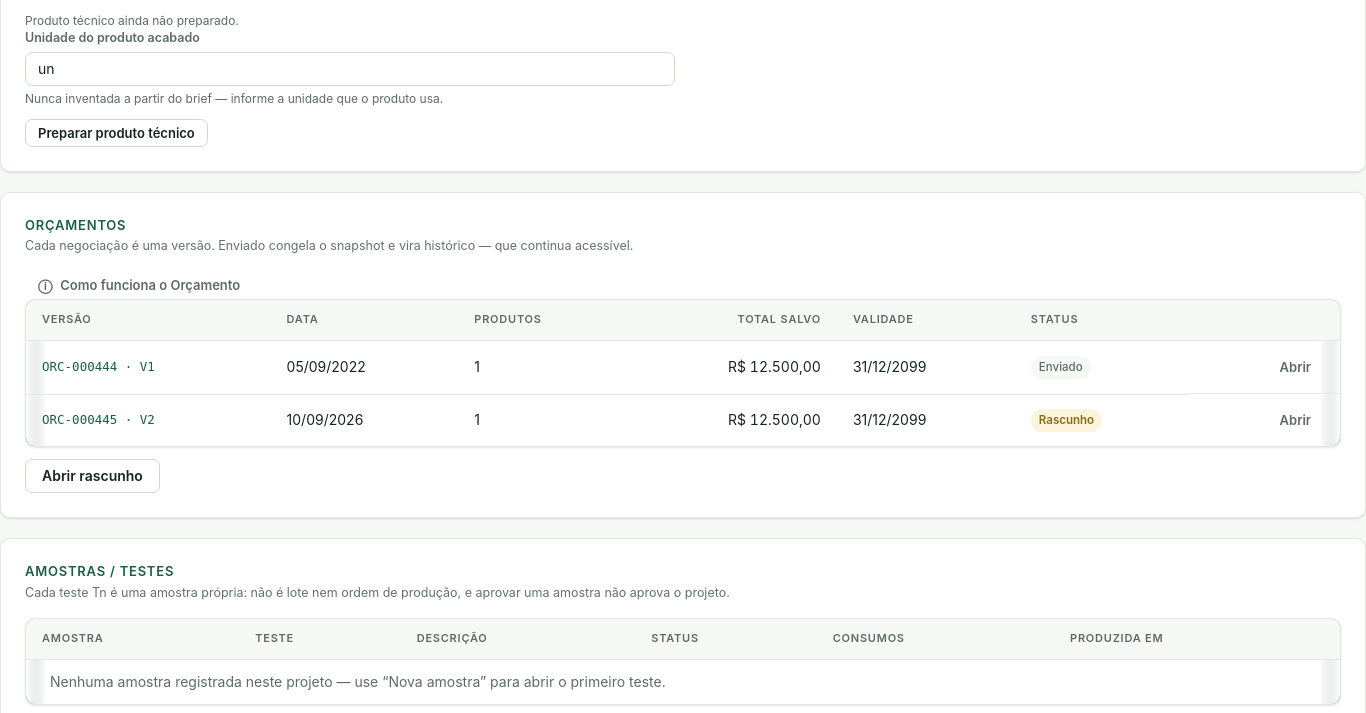
Test case: Projeto — a seção Orçamentos só lista › clicar na V1 histórica NAVEGA para a página dela, que se lê — sem formulário
The image size is (1366, 713).
(page scrolled)
Click the text "ORC-000444 · V1". click: (148, 368)
box: [26,341,271,394]
(page scrolled)
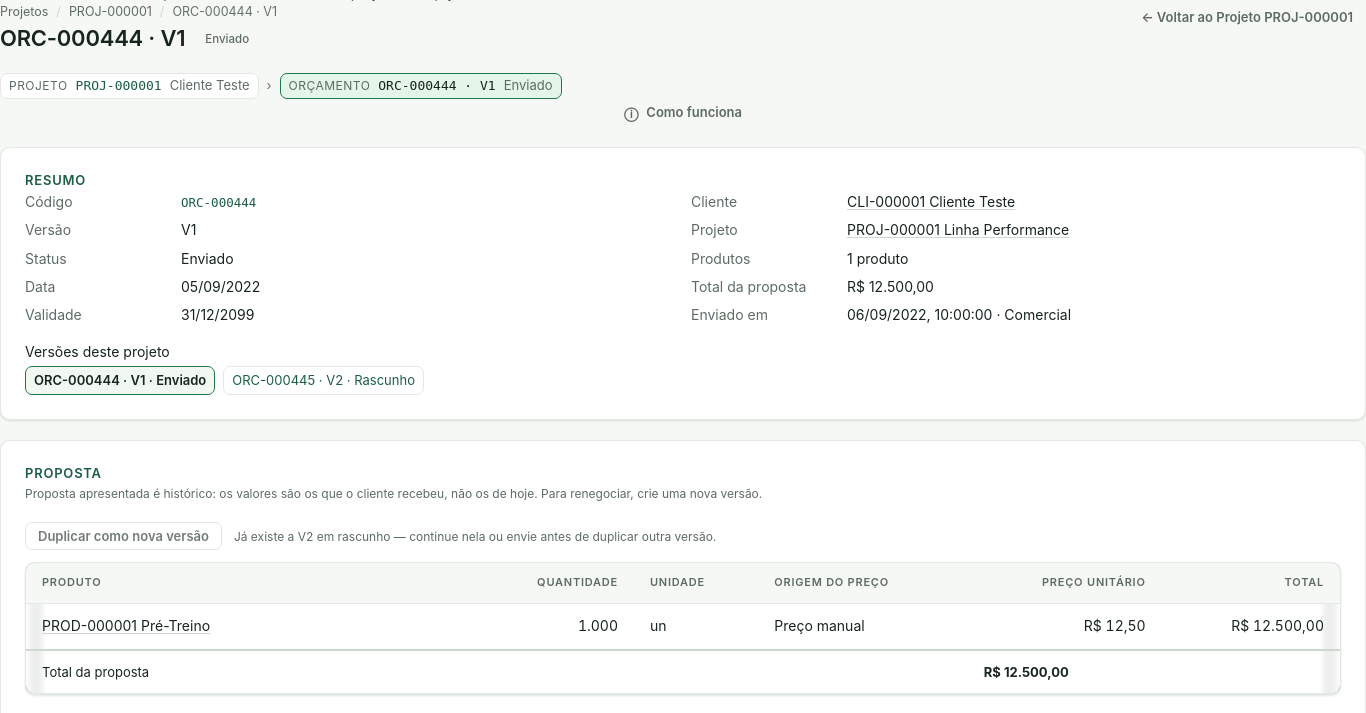
Check: the heading "ORC-000444 · V1" is shown, box [0,25,185,53]
Check: the text "Proposta apresentada é histórico" is shown, box [25,486,762,501]
Check: the text "ORC-000444" is shown, box [181,195,256,210]
